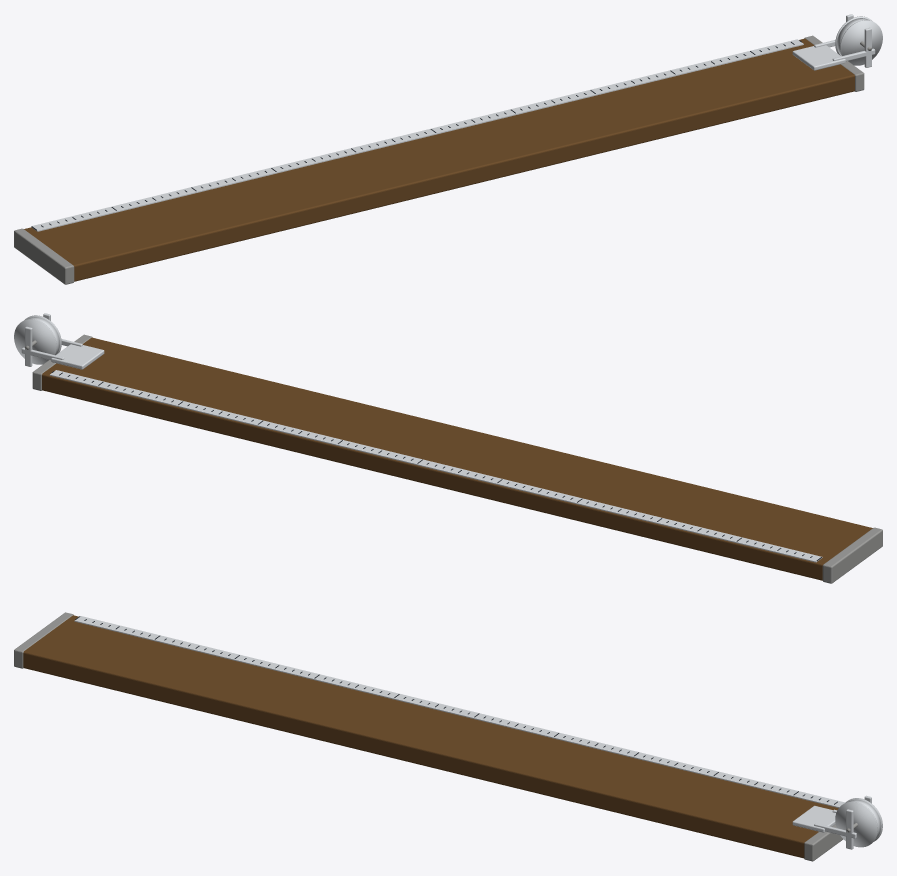
The model's file is wood_board.glb.
3 views of the same model, one above another, from view 1: azimuth 30°, elevation 25°; view 2: azimuth 150°, elevation 25°; view 3: azimuth 330°, elevation 25° (orthographic).
Visible parts, largest first — view 1: board, scale_strip, edge_l, wheel, bracket_base, wheel_flange_n; view 2: board, scale_strip, edge_l, wheel, wheel_flange_f, bracket_base; view 3: board, scale_strip, wheel, wheel_flange_n, bracket_base, edge_r, edge_l, scale_ticks.
Part boxes in pixels (x1=…): board: x1=24, y1=38, x2=854, y2=281; scale_strip: x1=31, y1=39, x2=803, y2=231; edge_l: x1=14, y1=228, x2=74, y2=284; wheel: x1=837, y1=18, x2=881, y2=64; bracket_base: x1=792, y1=45, x2=845, y2=70; wheel_flange_n: x1=840, y1=20, x2=882, y2=65; board: x1=42, y1=337, x2=872, y2=580; scale_strip: x1=49, y1=370, x2=822, y2=562; edge_l: x1=822, y1=527, x2=882, y2=583; wheel: x1=15, y1=317, x2=59, y2=363; wheel_flange_f: x1=14, y1=319, x2=56, y2=364; bracket_base: x1=51, y1=344, x2=104, y2=369; board: x1=23, y1=615, x2=838, y2=858; scale_strip: x1=74, y1=616, x2=845, y2=807; wheel: x1=836, y1=799, x2=881, y2=845; wheel_flange_n: x1=835, y1=801, x2=877, y2=847; bracket_base: x1=792, y1=805, x2=835, y2=832; edge_r: x1=804, y1=824, x2=843, y2=861; edge_l: x1=14, y1=612, x2=73, y2=668; scale_ticks: x1=75, y1=616, x2=837, y2=804.
Bounding box in the file's own units: 1.05 × 0.057 × 0.112.
